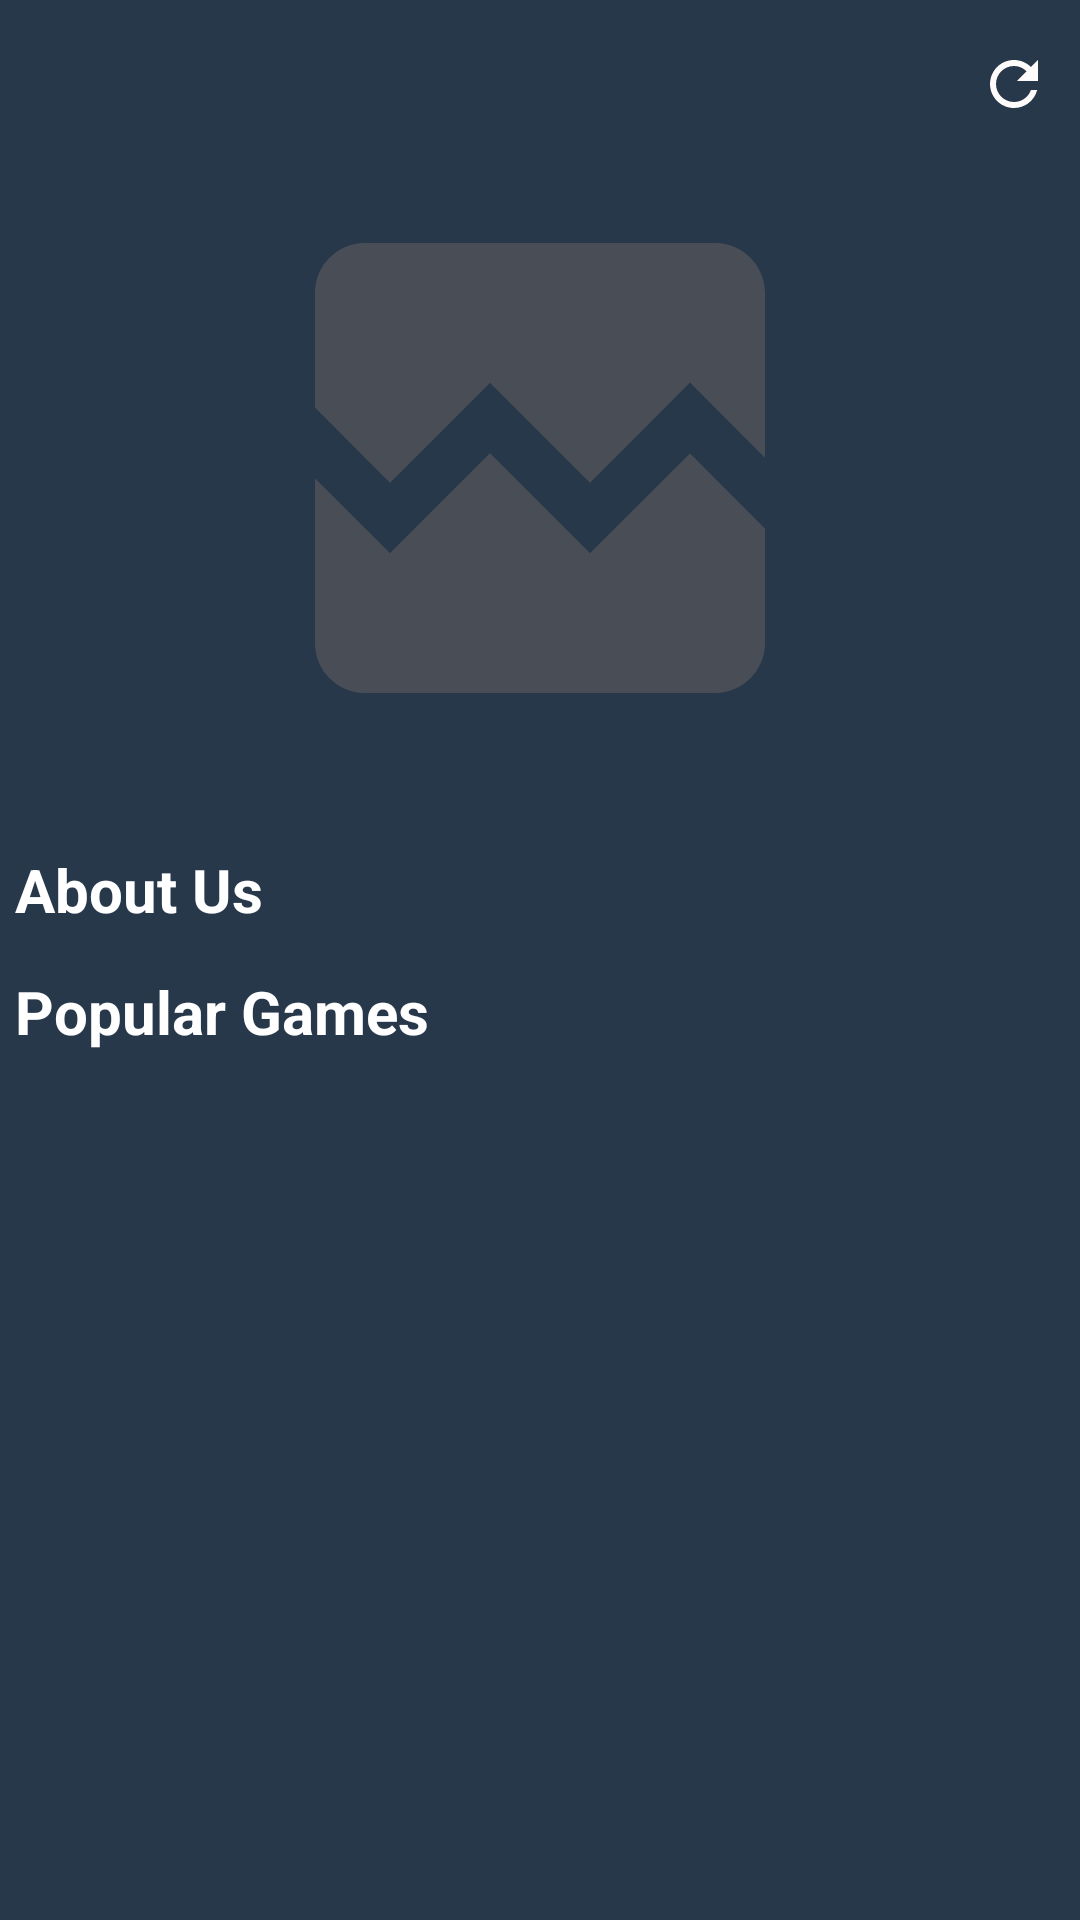

Point at icon controls on the screen. Image size 1080×1920, points as point (x, y).
refresh: point (1014, 84)
